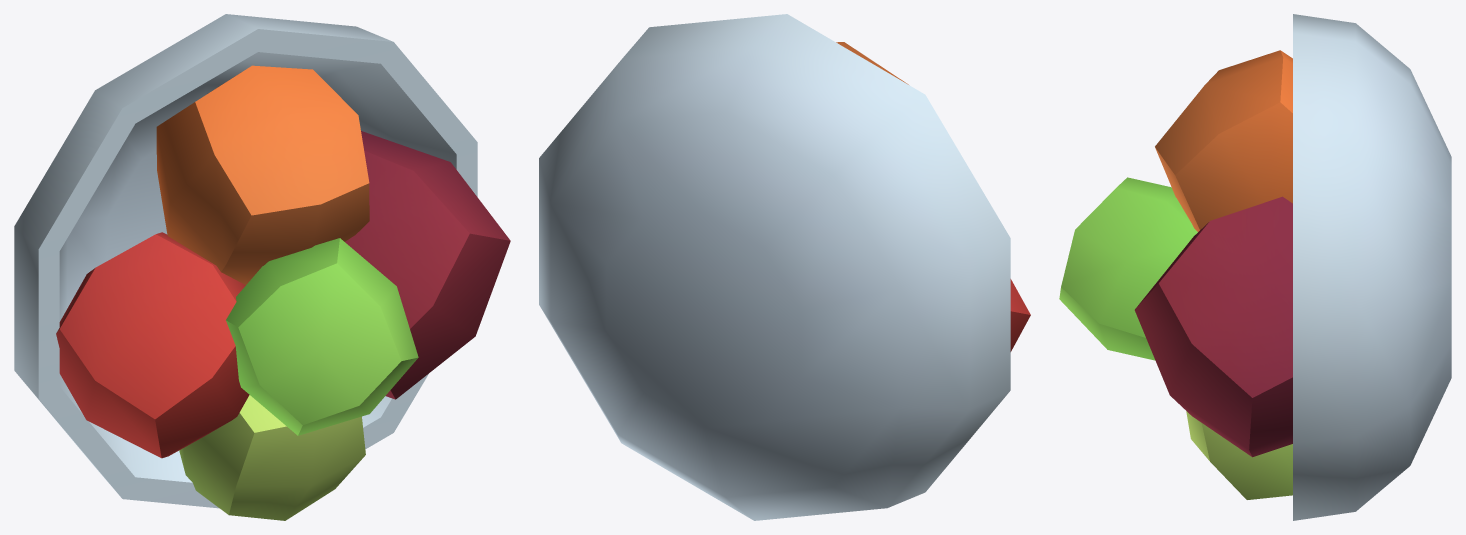
The model's file is FruitBowl.fbx.
3 renders of one model, left to right at view 1: azimuth 30°, elevation 25°; view 2: azimuth 150°, elevation 25°; view 3: azimuth 270°, elevation 25°, orthographic. The views are drawn at different scales.
Parts seen in each view (by area): view 1: FruitBowl; view 2: FruitBowl; view 3: FruitBowl.
Part boxes in pixels (x1=…): FruitBowl: x1=14, y1=14, x2=510, y2=520; FruitBowl: x1=539, y1=14, x2=1030, y2=520; FruitBowl: x1=1059, y1=14, x2=1451, y2=520.
Size of the model in its own units: 57.08 by 59.43 by 45.14.
